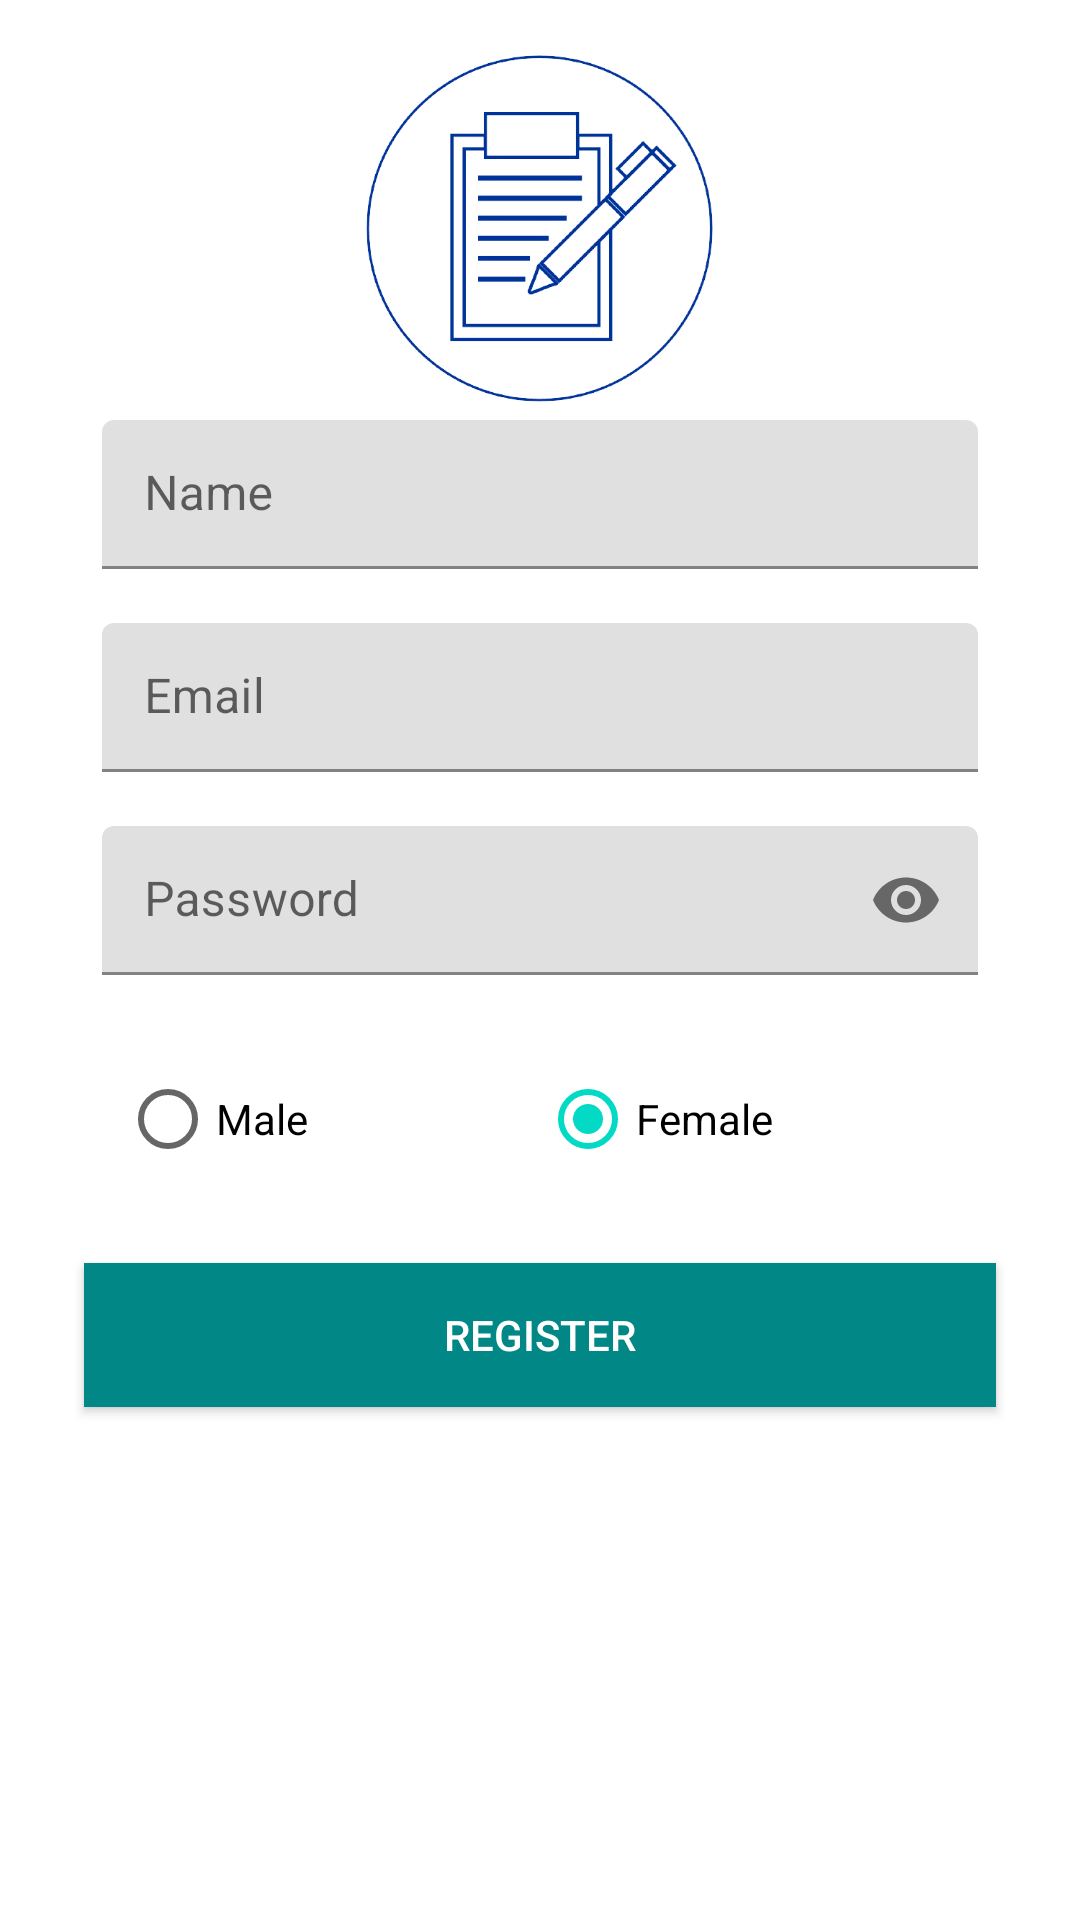

Point at icon controls on the screen. Image size 1080 × 1920, points as (x,y).
register: (539,228)
